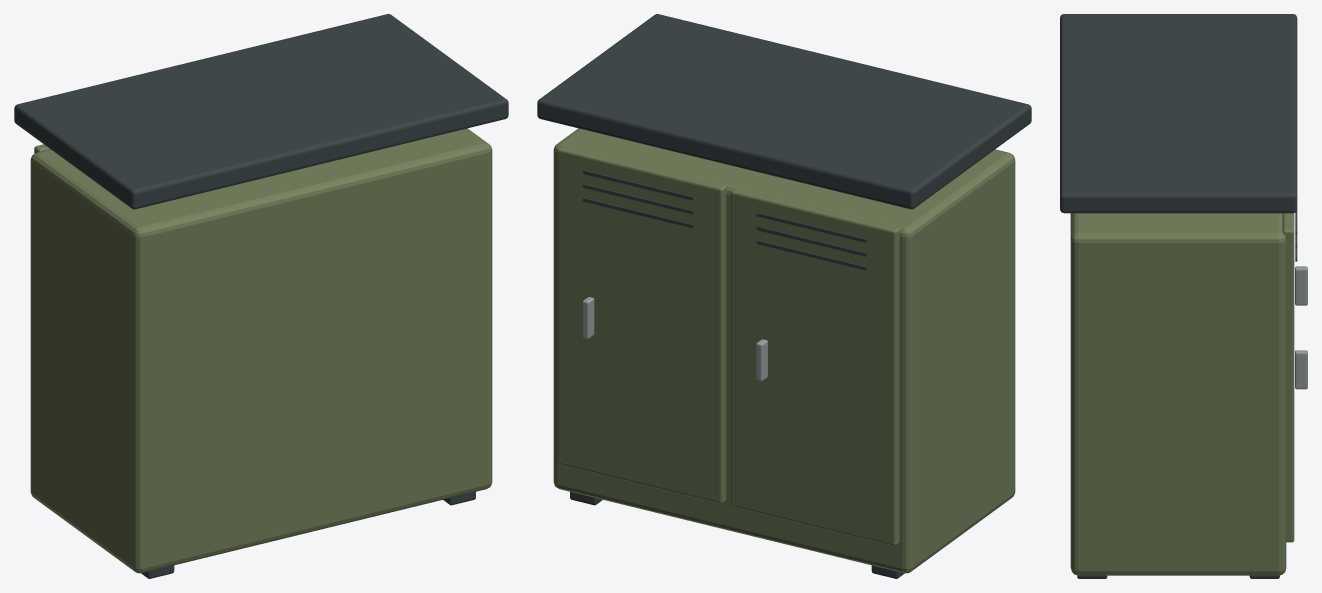
Rendered from locker.glb.
The picture shows the model from 3 angles, left to right: view 1: azimuth 30°, elevation 25°; view 2: azimuth 150°, elevation 25°; view 3: azimuth 270°, elevation 25°; orthographic projection.
Parts seen in each view (by area): view 1: locker; view 2: locker; view 3: locker.
Boxes of the visible parts, x1,y1,x2,y2 form: locker: [14, 14, 508, 578]; locker: [537, 14, 1031, 578]; locker: [1060, 14, 1307, 578].
Bounding box in the file's own units: 2 × 2.03 × 1.15.
